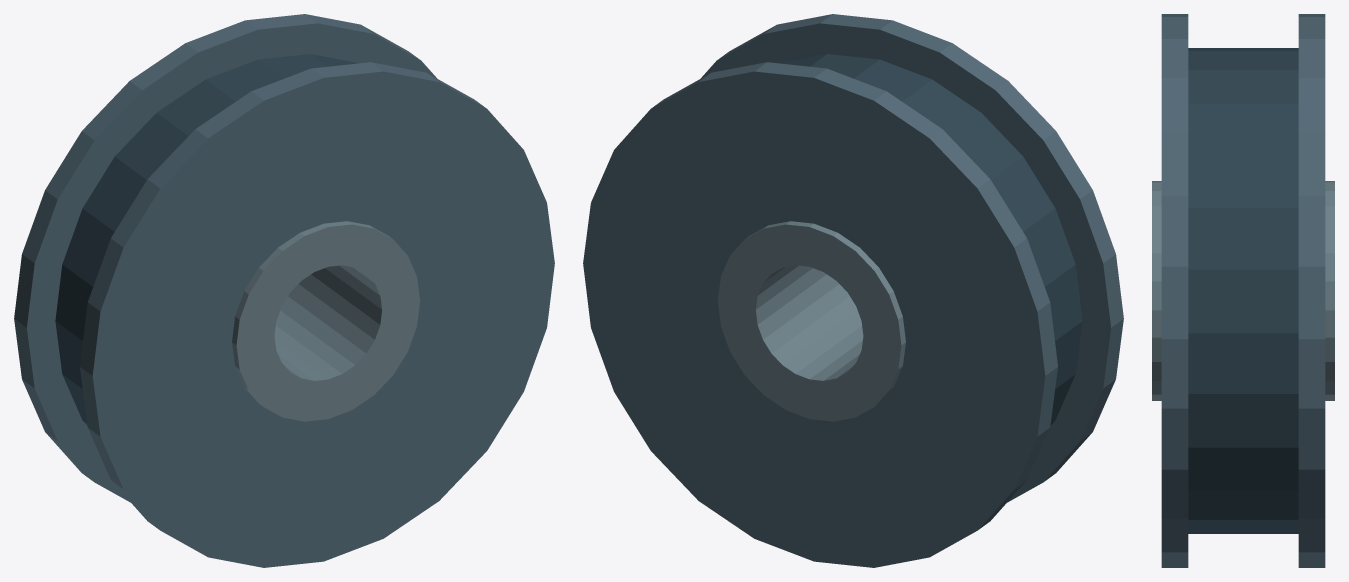
Rendered from 16_Pulley.obj.
3 renders of one model, left to right at view 1: azimuth 30°, elevation 25°; view 2: azimuth 150°, elevation 25°; view 3: azimuth 270°, elevation 25°, orthographic. The views are drawn at different scales.
Size of the model in its own units: 0.73 by 0.73 by 0.24.
